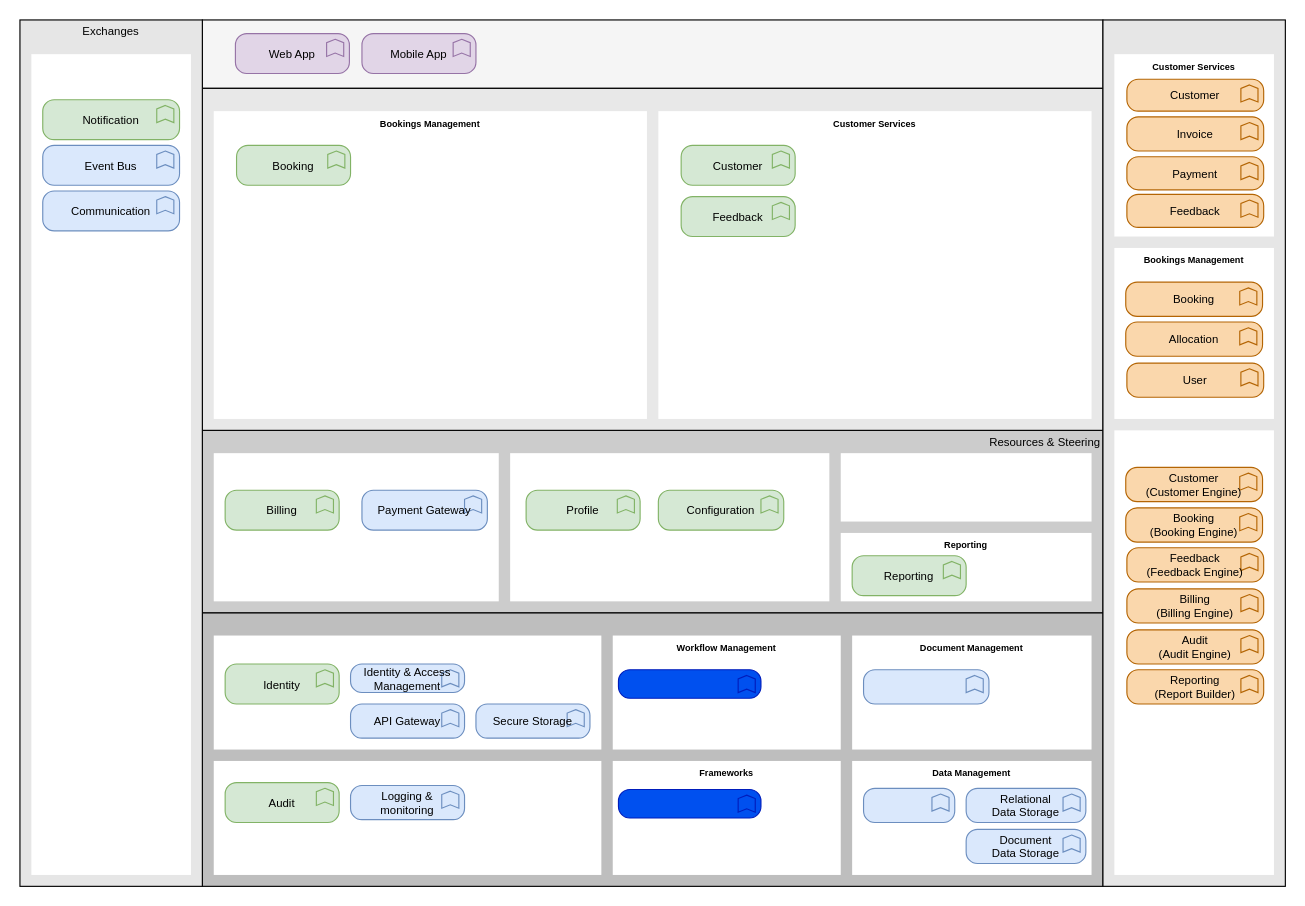
The diagram is 1305 pixels wide and 906 high, and some of its shapes have lost their labels. Here are the shapes that lost their labels. From the top down, the box of each, then its label:
(201, 19, 1103, 88): Channels
(201, 87, 1103, 430): Business
(31, 54, 190, 874): Exchange Support
(1102, 19, 1285, 886): References
(840, 453, 1091, 521): Support, HR
(213, 453, 498, 601): Finance
(510, 453, 829, 601): IS Resources Management
(1114, 430, 1273, 874): Business Engines & Analytics
(213, 635, 601, 749): Security, Authentication, Authorization
(617, 669, 761, 698): Dapr Workflows
(862, 669, 989, 704): File Storage
(201, 612, 1103, 886): Transversal
(213, 760, 601, 874): Audit Trails
(617, 788, 761, 818): Dapr
(862, 787, 955, 823): Cache
